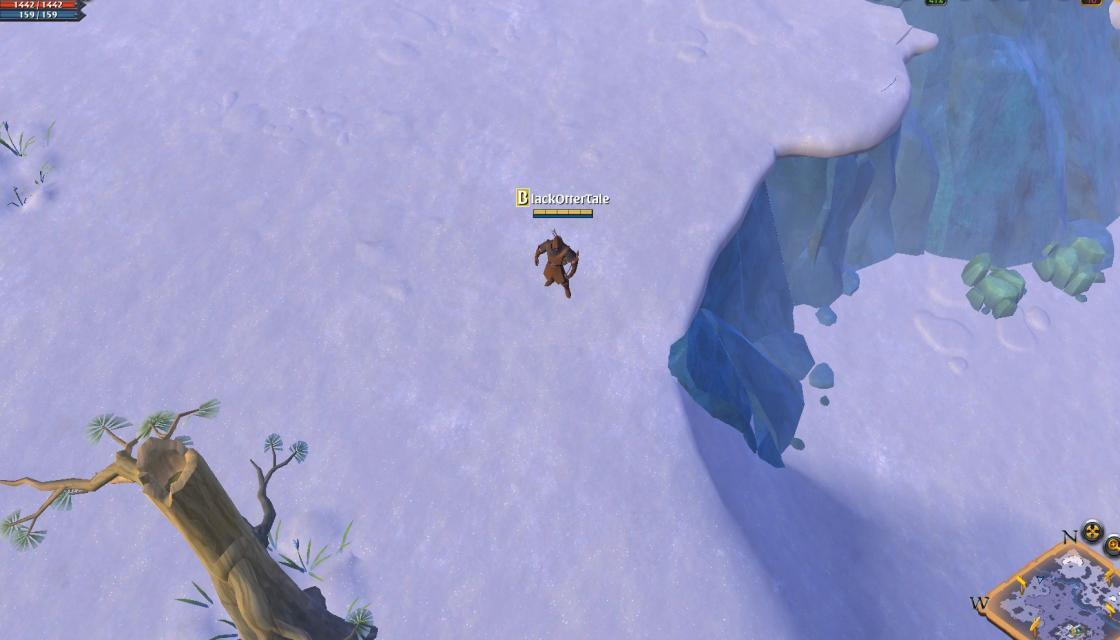sandstone: (1032, 234, 1110, 303), (955, 251, 1026, 320)
